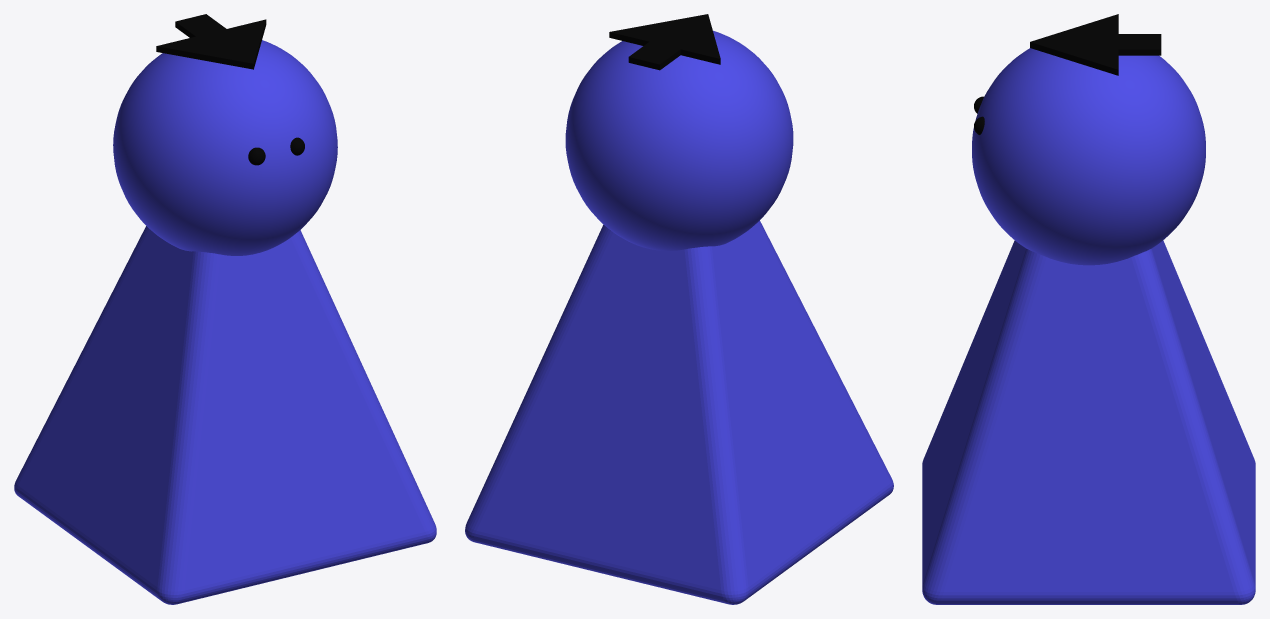
Rendered from 5purple.obj.
3 views of the same model, side by side, from view 1: azimuth 30°, elevation 25°; view 2: azimuth 150°, elevation 25°; view 3: azimuth 270°, elevation 25° (orthographic). The views are drawn at different scales.
Visible parts, largest first — view 1: Curve.003_Curve.013, Curve.003_Curve.014; view 2: Curve.003_Curve.013, Curve.003_Curve.014; view 3: Curve.003_Curve.013, Curve.003_Curve.014.
Boxes of the visible parts, x1,y1,x2,y2 form: Curve.003_Curve.013: (14,40,436,604); Curve.003_Curve.014: (156,14,304,165); Curve.003_Curve.013: (465,30,893,604); Curve.003_Curve.014: (609,14,720,70); Curve.003_Curve.013: (922,48,1255,604); Curve.003_Curve.014: (974,14,1161,134).
Bounding box in the file's own units: 0.2932 × 0.4819 × 0.2932.
